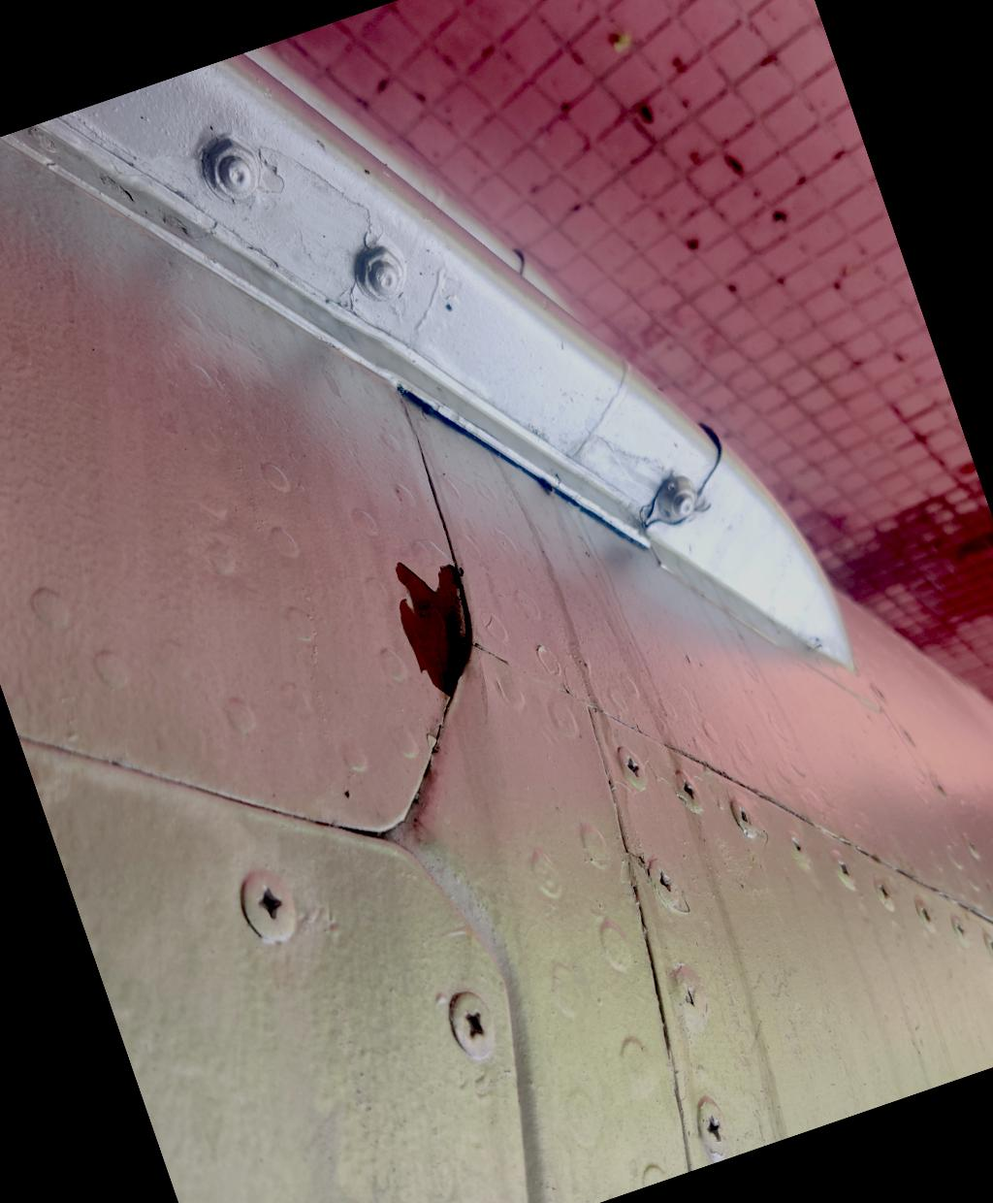corrosion: (378, 540, 495, 700)
